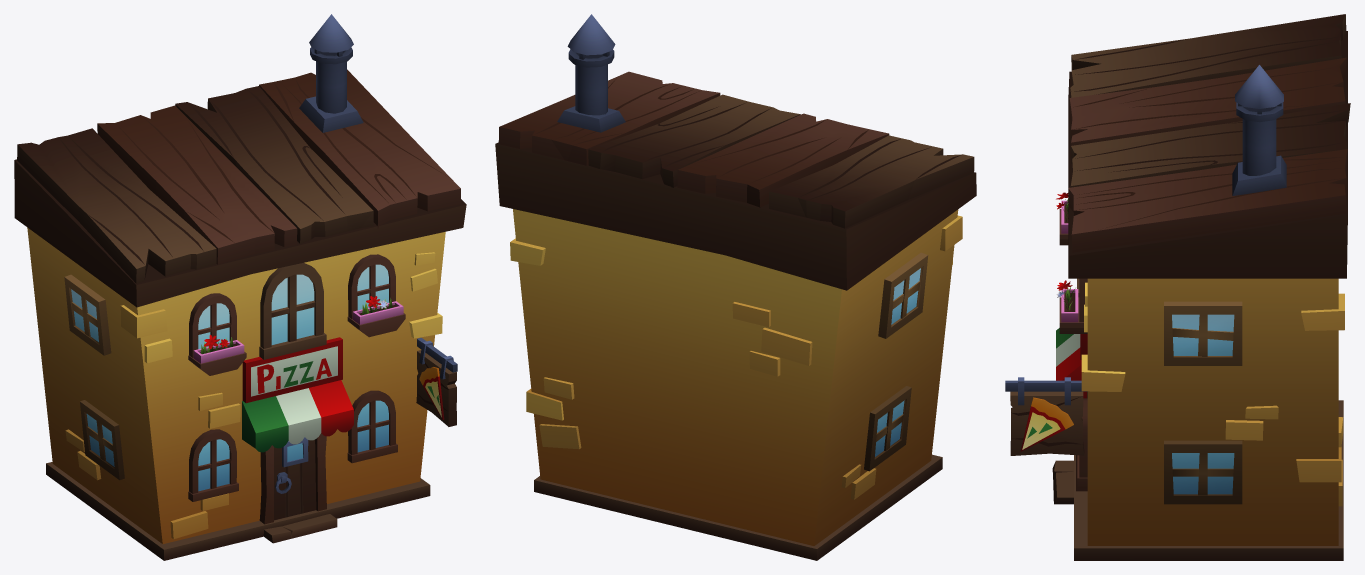
Rendered from Shop_Pizza.fbx.
The picture shows the model from 3 angles, left to right: view 1: azimuth 30°, elevation 25°; view 2: azimuth 150°, elevation 25°; view 3: azimuth 270°, elevation 25°; orthographic projection. The views are drawn at different scales.
Visible parts, largest first — view 1: Shop_Pizza; view 2: Shop_Pizza; view 3: Shop_Pizza.
Part boxes in pixels (bbox=[...]): Shop_Pizza: bbox=[14, 14, 466, 560]; Shop_Pizza: bbox=[495, 14, 976, 560]; Shop_Pizza: bbox=[1005, 14, 1350, 560].
Size of the model in its own units: 810 by 1000 by 643.
Materials: 6 (6 with a texture image).
